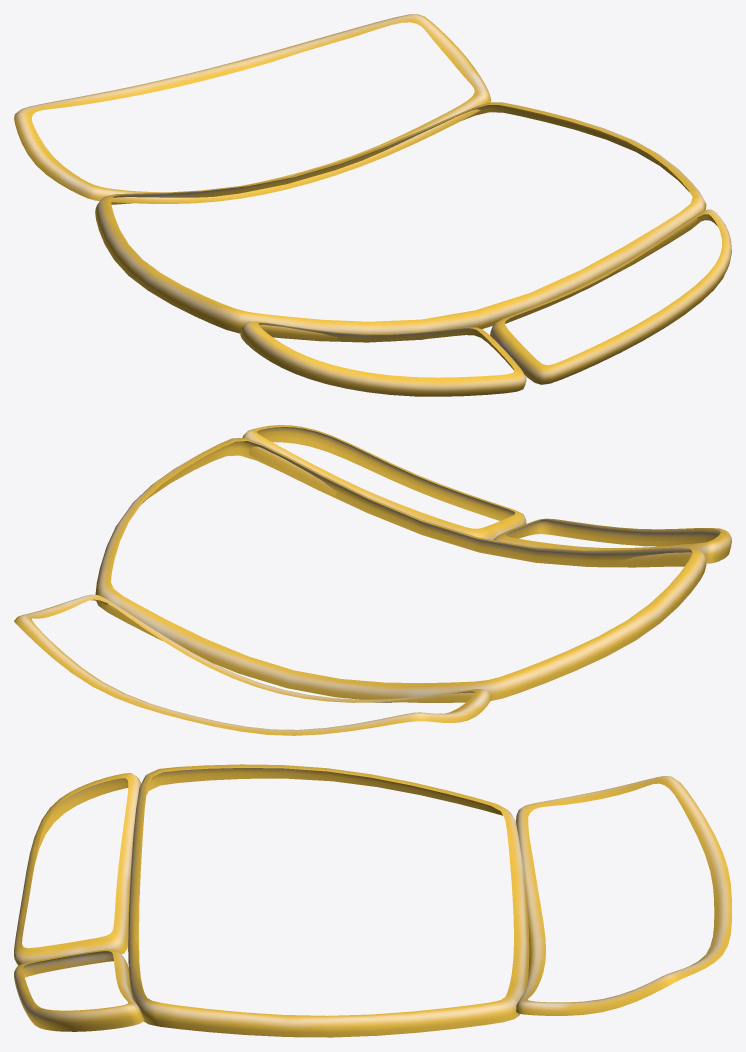
The model's file is CombinedSeat_Heat.gltf.
3 views of the same model, one above another, from view 1: azimuth 30°, elevation 25°; view 2: azimuth 150°, elevation 25°; view 3: azimuth 270°, elevation 25° (orthographic). The views are drawn at different scales.
Visible parts, largest first — view 1: CombinedSeat_Heat; view 2: CombinedSeat_Heat; view 3: CombinedSeat_Heat.
Boxes of the visible parts, <box> form: CombinedSeat_Heat: <box>14,14,731,396</box>; CombinedSeat_Heat: <box>14,425,731,735</box>; CombinedSeat_Heat: <box>14,764,731,1037</box>.
Bounding box in the file's own units: 50.28 × 8.93 × 58.94.
1 material, 1 textured.
